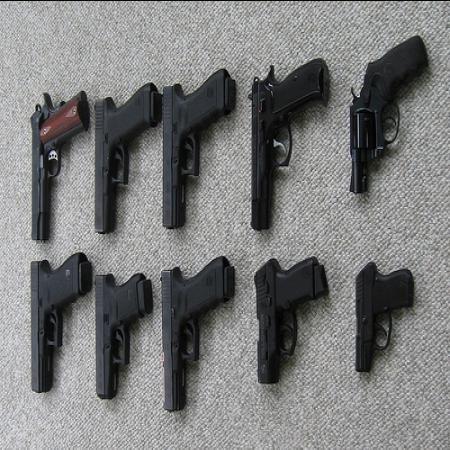Pistol: (246, 58, 328, 234), (346, 36, 428, 196), (160, 69, 236, 231), (252, 255, 328, 388), (354, 260, 414, 377)
